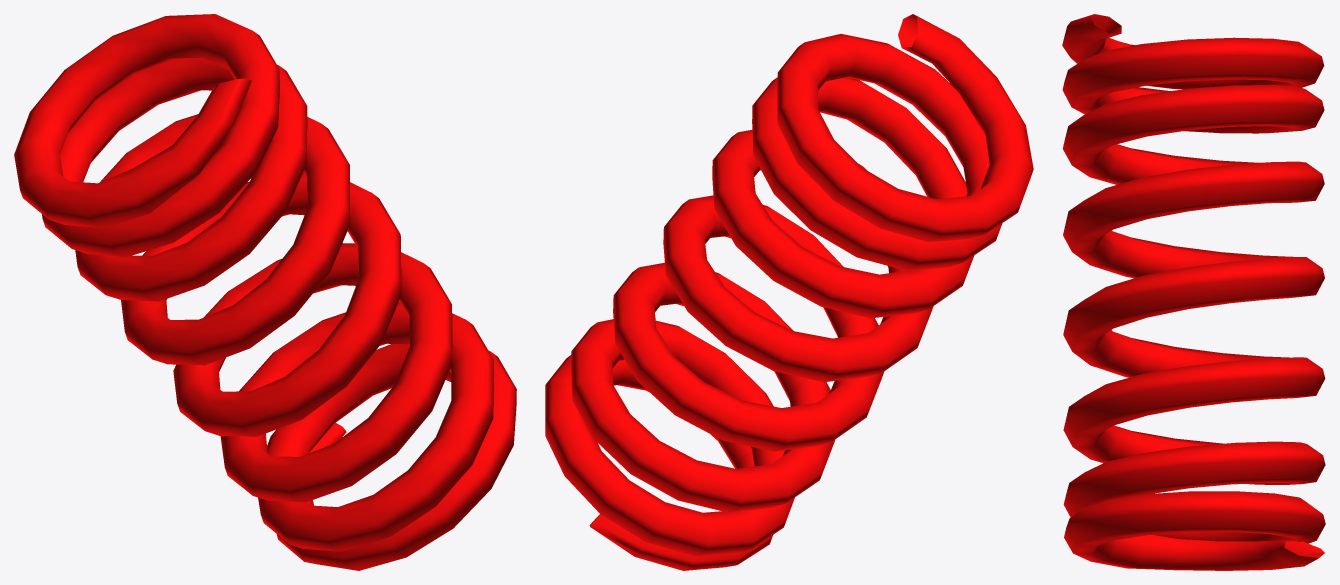
The model's file is Spring.fbx.
The picture shows the model from 3 angles, left to right: view 1: azimuth 30°, elevation 25°; view 2: azimuth 150°, elevation 25°; view 3: azimuth 270°, elevation 25°; orthographic projection. The views are drawn at different scales.
Visible parts, largest first — view 1: polySurface978; view 2: polySurface978; view 3: polySurface978.
Part boxes in pixels (<box>): polySurface978: <box>14,14,516,570</box>; polySurface978: <box>545,14,1033,570</box>; polySurface978: <box>1062,14,1325,570</box>.
Size of the model in its own units: 42.62 by 48.3 by 23.02.
